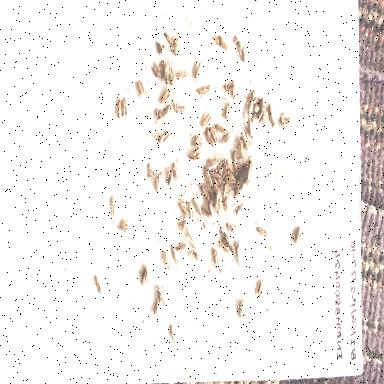pbw: (244, 154, 258, 186), (256, 274, 270, 306), (234, 169, 248, 199), (135, 77, 149, 105), (158, 57, 170, 87), (235, 238, 247, 268), (196, 79, 213, 99), (223, 234, 237, 258), (274, 162, 288, 186), (190, 56, 204, 80), (168, 319, 180, 347), (168, 242, 180, 270), (204, 149, 220, 169), (114, 92, 124, 124), (200, 106, 216, 126), (236, 294, 248, 320), (246, 82, 260, 104), (209, 32, 224, 52), (266, 100, 276, 130), (202, 124, 214, 148), (152, 294, 164, 318), (201, 166, 213, 190), (236, 40, 248, 64), (154, 36, 166, 60), (191, 196, 203, 220), (291, 224, 304, 246), (231, 148, 242, 174), (156, 126, 170, 146), (175, 65, 189, 84), (216, 32, 228, 54), (92, 274, 104, 296), (244, 96, 256, 118), (152, 60, 164, 82), (185, 198, 195, 224), (210, 242, 220, 268), (216, 240, 232, 256), (108, 190, 116, 222), (190, 144, 204, 162), (176, 198, 190, 216), (220, 126, 234, 144), (172, 33, 182, 58), (146, 158, 156, 183), (140, 264, 150, 288), (161, 101, 173, 121), (236, 134, 246, 158), (224, 101, 234, 125), (200, 183, 212, 202), (214, 185, 223, 210), (154, 168, 162, 196), (168, 60, 176, 88), (281, 109, 292, 129), (204, 200, 214, 222), (154, 104, 164, 126), (230, 77, 240, 99), (189, 246, 201, 264), (167, 169, 175, 195), (246, 110, 254, 136), (173, 158, 181, 184), (172, 91, 180, 117), (227, 217, 238, 235), (161, 280, 168, 308), (220, 79, 234, 93), (224, 172, 238, 186), (159, 86, 172, 101), (164, 248, 172, 272), (156, 282, 164, 306), (220, 228, 232, 244), (186, 230, 196, 249), (209, 124, 218, 145), (242, 125, 250, 148), (178, 218, 188, 236), (163, 27, 173, 45), (278, 114, 288, 132), (236, 198, 246, 216), (216, 196, 224, 218), (215, 121, 228, 134), (118, 224, 132, 236), (252, 103, 266, 115), (261, 98, 268, 122), (176, 240, 188, 254), (198, 206, 212, 218), (221, 156, 233, 170), (215, 166, 223, 187), (193, 130, 202, 148), (222, 181, 230, 201), (206, 260, 216, 276), (119, 214, 131, 227), (223, 192, 230, 214), (233, 29, 241, 47), (122, 96, 128, 120), (174, 104, 186, 114), (251, 116, 263, 125)
